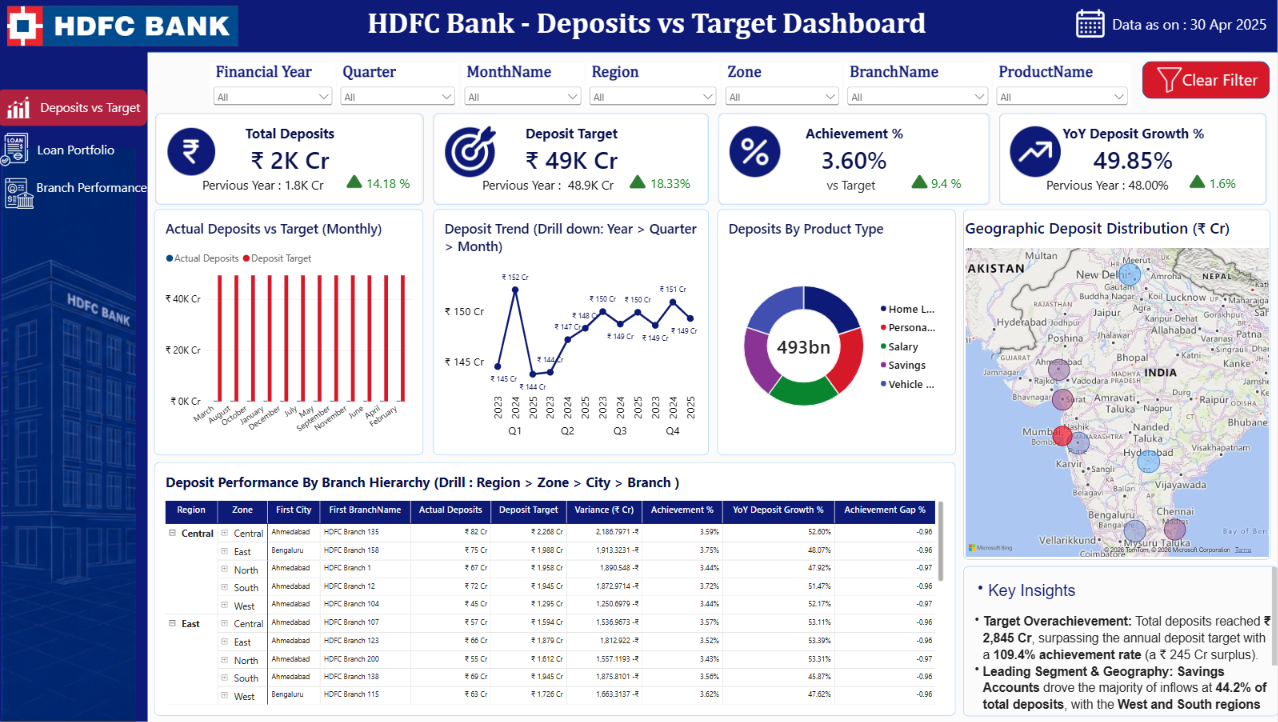

What the dashboard file says about the page in this screenshot:
{"tool":"powerbi","page":{"name":"Deposits vs Target","canvas":[1920,1080],"ordinal":0},"visuals":[{"type":"shape","box":[9.4,0,1911.2,79.5],"z":0,"group":"g1"},{"type":"group","id":"g1","title":"Group 1","box":[9.4,0,1911.2,1080.3],"z":0},{"type":"slicer","fields":{"Values":["DimDate.Financial Year"]},"box":[327.4,95.1,187.1,62.4],"z":0,"group":"g2"},{"type":"group","id":"g2","title":"Group 2","box":[327.4,95.1,1374.9,63.9],"z":0,"group":"g11"},{"type":"group","id":"g3","title":"depo vs tar","box":[9,134.3,223.9,55.2],"z":0,"group":"g5"},{"type":"actionButton","box":[9,134.3,223.9,55.2],"z":0,"group":"g3"},{"type":"group","id":"g4","title":"KPI 1","box":[244.7,170.3,400.6,137.2],"z":0,"group":"g14"},{"type":"cardVisual","fields":{"Data":["Measure Table.Actual Deposits (₹ Cr)"]},"box":[244.7,170.3,400.6,137.2],"z":0,"group":"g4"},{"type":"cardVisual","fields":{"Data":["Measure Table.Deposit Target"]},"box":[659.3,170.3,411.5,137.2],"z":0,"group":"g6"},{"type":"cardVisual","fields":{"Data":["Measure Table.Achievement %"]},"box":[1084.8,170.3,405.3,137.2],"z":0,"group":"g9"},{"type":"cardVisual","fields":{"Data":["Measure Table.YoY Deposit Growth %"]},"box":[1504.1,170.3,399.1,137.2],"z":0,"group":"g12"},{"type":"actionButton","box":[9,197,223.9,55.2],"z":0,"group":"g7"},{"type":"actionButton","box":[9,264.2,223.9,55.2],"z":0,"group":"g10"},{"type":"textbox","box":[1450,845.7,470,224.3],"z":0,"group":"g13"},{"type":"shape","box":[9.4,0,224.5,1080.3],"z":1000,"group":"g1"},{"type":"shape","box":[1717.9,92,190.2,56.1],"z":1000,"group":"g8"},{"type":"slicer","fields":{"Values":["DimDate.Quarter"]},"box":[517.6,95.1,180.8,63.9],"z":1000,"group":"g2"},{"type":"group","id":"g5","title":"page pane","box":[9,134.3,235.4,185.1],"z":1000},{"type":"textbox","box":[72.7,148,151.2,26.5],"z":1000,"group":"g3"},{"type":"group","id":"g6","title":"KPI 1","box":[659.3,170.3,411.5,137.2],"z":1000,"group":"g14"},{"type":"image","box":[244.7,189.7,108.3,75.9],"z":1000,"group":"g4"},{"type":"image","box":[659.3,189.7,111.3,75.9],"z":1000,"group":"g6"},{"type":"image","box":[1084.8,189.7,109.6,75.9],"z":1000,"group":"g9"},{"type":"image","box":[1504.1,189.7,107.9,75.9],"z":1000,"group":"g12"},{"type":"group","id":"g7","title":"loan","box":[9,197,223.9,55.2],"z":1000,"group":"g5"},{"type":"image","box":[9,197.5,49.9,54.6],"z":1000,"group":"g7"},{"type":"image","box":[18.4,267.3,48.3,45.2],"z":1000,"group":"g10"},{"type":"image","box":[25,10.9,344.5,59.2],"z":2000,"group":"g1"},{"type":"group","id":"g8","title":"clear filter","box":[1716.5,89,191.6,60.6],"z":2000},{"type":"slicer","fields":{"Values":["DimDate.MonthName"]},"box":[701.5,95.1,184,63.9],"z":2000,"group":"g2"},{"type":"image","box":[1739.7,96.7,37.4,46.8],"z":2000,"group":"g8"},{"type":"image","box":[15,140.2,51.4,42.1],"z":2000,"group":"g3"},{"type":"group","id":"g9","title":"KPI 1","box":[1084.8,170.3,405.3,137.2],"z":2000,"group":"g14"},{"type":"textbox","box":[68.3,211.5,127.8,28.1],"z":2000,"group":"g7"},{"type":"textbox","box":[315.2,263.9,206.3,25.8],"z":2000,"group":"g4"},{"type":"textbox","box":[731.7,263.9,212,25.8],"z":2000,"group":"g6"},{"type":"textbox","box":[1574.3,263.9,205.5,25.8],"z":2000,"group":"g12"},{"type":"group","id":"g10","title":"branch","box":[9,264.2,235.4,55.2],"z":2000,"group":"g5"},{"type":"textbox","box":[1215.6,264.5,134.1,31.2],"z":2000,"group":"g9"},{"type":"textbox","box":[66.7,267.3,177.7,29.6],"z":2000,"group":"g10"},{"type":"textbox","box":[484.9,9.4,986.8,60.8],"z":3000,"group":"g1"},{"type":"group","id":"g11","title":"slicer","box":[327.4,95.1,1374.9,63.9],"z":3000},{"type":"slicer","fields":{"Values":["DimBranch.Region"]},"box":[888.6,95.1,199.5,63.9],"z":3000,"group":"g2"},{"type":"textbox","box":[1777.1,102.9,130.9,32.7],"z":3000,"group":"g8"},{"type":"group","id":"g12","title":"KPI 1","box":[1504.1,170.3,398.5,136.6],"z":3000,"group":"g14"},{"type":"textbox","box":[559.4,260.7,72.2,29.1],"z":3000,"group":"g4"},{"type":"textbox","box":[982.5,260.7,74.2,29.1],"z":3000,"group":"g6"},{"type":"textbox","box":[1403.1,260.7,73.1,29.1],"z":3000,"group":"g9"},{"type":"textbox","box":[1817.5,260.7,71.9,29.1],"z":3000,"group":"g12"},{"type":"actionButton","box":[1716.5,89,190.9,60.6],"z":3500,"group":"g8"},{"type":"textbox","box":[1674.3,21.8,233.8,35.9],"z":4000,"group":"g1"},{"type":"slicer","fields":{"Values":["DimBranch.Zone"]},"box":[1091.3,95.1,179.3,63.9],"z":4000,"group":"g2"},{"type":"image","box":[528.4,255.8,27.5,33.9],"z":4000,"group":"g4"},{"type":"image","box":[950.7,255.8,28.3,33.9],"z":4000,"group":"g6"},{"type":"image","box":[1371.8,255.8,27.8,33.9],"z":4000,"group":"g9"},{"type":"image","box":[1786.7,255.8,27.4,33.9],"z":4000,"group":"g12"},{"type":"clusteredColumnChart","title":"Actual Deposits vs Target (Monthly)","fields":{"Category":["DimDate.MonthName"],"Y":["Measure Table.Actual Deposits (₹ Cr)","Measure Table.Deposit Target"]},"box":[242.9,312.9,401.4,367.1],"z":4000},{"type":"image","box":[1619.7,15.6,42.1,42.1],"z":5000,"group":"g1"},{"type":"slicer","fields":{"Values":["DimBranch.BranchName"]},"box":[1273.7,95.1,219.8,63.9],"z":5000,"group":"g2"},{"type":"lineChart","title":"Deposit Trend (Drill down: Year > Quarter > Month)","fields":{"Category":["DimDate.Quarter","DimDate.Year"],"Y":["Measure Table.Actual Deposits (₹ Cr)"]},"box":[660,312.9,411.4,367.1],"z":5000},{"type":"slicer","fields":{"Values":["DimProduct.ProductName"]},"box":[1496.6,95.1,205.8,63.9],"z":6000,"group":"g2"},{"type":"image","box":[9.4,222.9,213.6,857.4],"z":6000,"group":"g1"},{"type":"donutChart","title":"Deposits By Product Type","fields":{"Category":["DimProduct.ProductName"],"Y":["Sum(BranchDepositTargets.DepositTarget)"]},"box":[1084.3,312.9,355.7,367.1],"z":6000},{"type":"map","title":"Geographic Deposit Distribution (₹ Cr)","fields":{"Category":["DimBranch.City"],"Size":["Measure Table.Actual Deposits (₹ Cr)"]},"box":[1450,312.9,458.6,522.9],"z":7000},{"type":"pivotTable","title":" Deposit Performance By Branch Hierarchy (Drill : Region > Zone > City > Branch )","fields":{"Rows":["DimBranch.Region","DimBranch.Zone","DimBranch.City","DimBranch.BranchName"],"Values":["Min(DimBranch.City)","Min(DimBranch.BranchName)","Measure Table.Actual Deposits (₹ Cr)","Measure Table.Deposit Target","Measure Table.Variance (₹ Cr)","Measure Table.Achievement %","Measure Table.YoY Deposit Growth %","Measure Table.Achievement Gap %"]},"box":[242.9,691.4,1195.7,378.6],"z":8000},{"type":"group","id":"g13","title":"key insights","box":[1450,845.7,470,224.3],"z":9000},{"type":"group","id":"g14","title":"KPI","box":[244.7,170.3,1657.9,137.2],"z":10000}]}

Visuals, with their boxes on the page's 1920x1080 design canvas (x1, y1, x2, y2). These are canvas units, not pixel positions in the 1278x722 screenshot, which may show the page scaled, cropped or inside an application window:
shape: locate(9, 0, 1921, 80)
"Group 1" group: locate(9, 0, 1921, 1080)
slicer - DimDate.Financial Year: locate(327, 95, 514, 158)
"Group 2" group: locate(327, 95, 1702, 159)
"depo vs tar" group: locate(9, 134, 233, 190)
actionButton: locate(9, 134, 233, 190)
"KPI 1" group: locate(245, 170, 645, 308)
cardVisual - Measure Table.Actual Deposits (₹ Cr): locate(245, 170, 645, 308)
cardVisual - Measure Table.Deposit Target: locate(659, 170, 1071, 308)
cardVisual - Measure Table.Achievement %: locate(1085, 170, 1490, 308)
cardVisual - Measure Table.YoY Deposit Growth %: locate(1504, 170, 1903, 308)
actionButton: locate(9, 197, 233, 252)
actionButton: locate(9, 264, 233, 319)
textbox: locate(1450, 846, 1920, 1070)
shape: locate(9, 0, 234, 1080)
shape: locate(1718, 92, 1908, 148)
slicer - DimDate.Quarter: locate(518, 95, 698, 159)
"page pane" group: locate(9, 134, 244, 319)
textbox: locate(73, 148, 224, 174)
"KPI 1" group: locate(659, 170, 1071, 308)
image: locate(245, 190, 353, 266)
image: locate(659, 190, 771, 266)
image: locate(1085, 190, 1194, 266)
image: locate(1504, 190, 1612, 266)
"loan" group: locate(9, 197, 233, 252)
image: locate(9, 198, 59, 252)
image: locate(18, 267, 67, 312)
image: locate(25, 11, 370, 70)
"clear filter" group: locate(1716, 89, 1908, 150)
slicer - DimDate.MonthName: locate(702, 95, 886, 159)
image: locate(1740, 97, 1777, 144)
image: locate(15, 140, 66, 182)
"KPI 1" group: locate(1085, 170, 1490, 308)
textbox: locate(68, 212, 196, 240)
textbox: locate(315, 264, 522, 290)
textbox: locate(732, 264, 944, 290)
textbox: locate(1574, 264, 1780, 290)
"branch" group: locate(9, 264, 244, 319)
textbox: locate(1216, 264, 1350, 296)
textbox: locate(67, 267, 244, 297)
textbox: locate(485, 9, 1472, 70)
"slicer" group: locate(327, 95, 1702, 159)
slicer - DimBranch.Region: locate(889, 95, 1088, 159)
textbox: locate(1777, 103, 1908, 136)
"KPI 1" group: locate(1504, 170, 1903, 307)
textbox: locate(559, 261, 632, 290)
textbox: locate(982, 261, 1057, 290)
textbox: locate(1403, 261, 1476, 290)
textbox: locate(1818, 261, 1889, 290)
actionButton: locate(1716, 89, 1907, 150)
textbox: locate(1674, 22, 1908, 58)
slicer - DimBranch.Zone: locate(1091, 95, 1271, 159)
image: locate(528, 256, 556, 290)
image: locate(951, 256, 979, 290)
image: locate(1372, 256, 1400, 290)
image: locate(1787, 256, 1814, 290)
"Actual Deposits vs Target (Monthly)" clusteredColumnChart: locate(243, 313, 644, 680)
image: locate(1620, 16, 1662, 58)
slicer - DimBranch.BranchName: locate(1274, 95, 1494, 159)
"Deposit Trend (Drill down: Year > Quarter > Month)" lineChart: locate(660, 313, 1071, 680)
slicer - DimProduct.ProductName: locate(1497, 95, 1702, 159)
image: locate(9, 223, 223, 1080)
"Deposits By Product Type" donutChart: locate(1084, 313, 1440, 680)
"Geographic Deposit Distribution (₹ Cr)" map: locate(1450, 313, 1909, 836)
" Deposit Performance By Branch Hierarchy (Drill : Region > Zone > City > Branch )" pivotTable: locate(243, 691, 1439, 1070)
"key insights" group: locate(1450, 846, 1920, 1070)
"KPI" group: locate(245, 170, 1903, 308)
